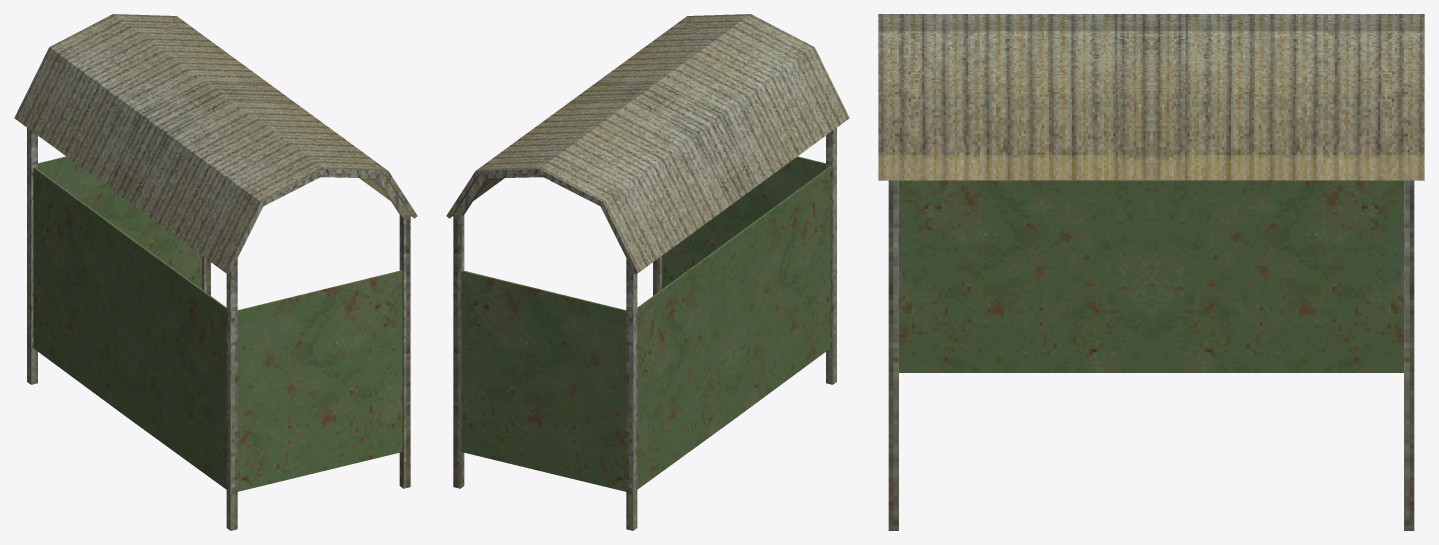
The model's file is busstop_round_roof.glb.
3 views of the same model, side by side, from view 1: azimuth 30°, elevation 25°; view 2: azimuth 150°, elevation 25°; view 3: azimuth 270°, elevation 25° (orthographic). The views are drawn at different scales.
Visible parts, largest first — view 1: busstop_round_roof; view 2: busstop_round_roof; view 3: busstop_round_roof.
Boxes of the visible parts, bbox=[...] form: busstop_round_roof: bbox=[14, 14, 417, 530]; busstop_round_roof: bbox=[446, 14, 849, 530]; busstop_round_roof: bbox=[878, 14, 1424, 530].
Size of the model in its own units: 2.22 by 3.79 by 4.24.
Materials: 1 (1 with a texture image).
